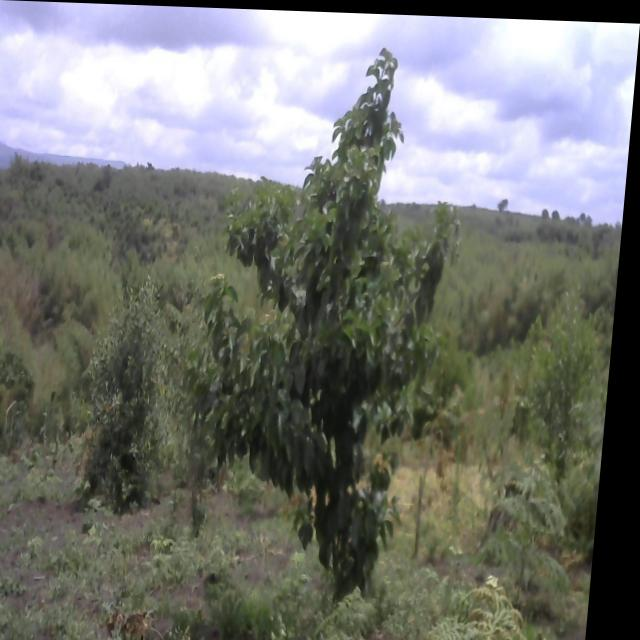other: (85, 280, 190, 515)
